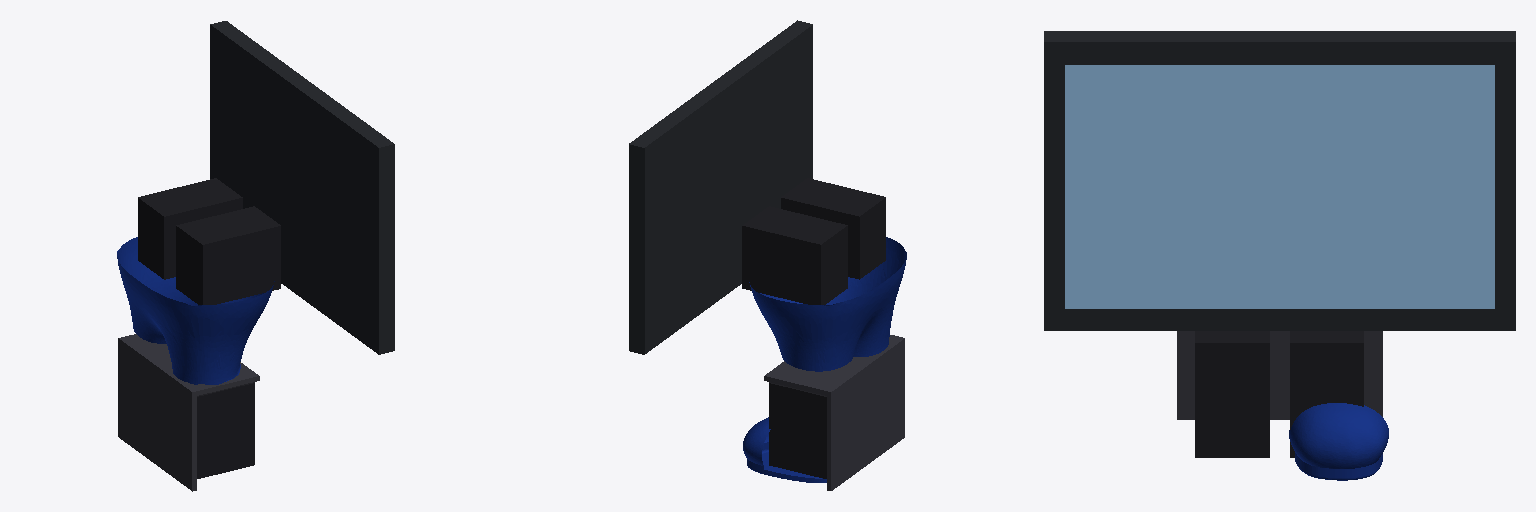
robot.urdf — haetburi:
<?xml version="1.0"?>
<!-- Haetburi biped (v14_xc330) - generated by tools/build_model.py, do not edit by hand -->
<robot name="haetburi">
  <mujoco>
    <compiler meshdir="." balanceinertia="true" discardvisual="false" strippath="false" fusestatic="false"/>
  </mujoco>
  <material name="display"><color rgba="0.18 0.19 0.21 1"/></material>
  <material name="screen"><color rgba="0.62 0.80 0.95 1"/></material>
  <material name="shell"><color rgba="0.106 0.216 0.541 1"/></material>
  <material name="motor"><color rgba="0.15 0.15 0.17 1"/></material>
  <material name="foot"><color rgba="0.25 0.25 0.28 1"/></material>
  <link name="world"/>
  <joint name="floating_base" type="floating">
    <parent link="world"/><child link="pelvis"/>
    <origin xyz="0 0 0" rpy="0 0 0"/>
  </joint>
  <link name="pelvis">
    <inertial>
      <origin xyz="0.0110592 -1.79769e-05 0.0199137" rpy="0 0 0"/>
      <mass value="0.296168"/>
      <inertia ixx="4.74493e-05" ixy="-2.49263e-08" ixz="-2.28874e-06" iyy="4.28728e-05" iyz="7.01694e-08" izz="3.10815e-05"/>
    </inertial>
    <visual><origin xyz="0 0 0" rpy="0 0 0"/><geometry><mesh filename="meshes/pelvis.stl"/></geometry><material name="shell"/></visual>
    <visual><origin xyz="0.00880154 0.014294 0.039" rpy="0 0 0"/><geometry><box size="0.034 0.02 0.026"/></geometry><material name="motor"/></visual>
    <visual><origin xyz="0.00879846 -0.0144704 0.039" rpy="0 0 0"/><geometry><box size="0.034 0.02 0.026"/></geometry><material name="motor"/></visual>
    <collision><origin xyz="0.00435977 -8.54132e-05 0.01525" rpy="0 0 0"/><geometry><box size="0.0522715 0.0694135 0.0305"/></geometry></collision>
  </link>
  <link name="torso">
    <inertial>
      <origin xyz="0.0129476 6.00365e-05 0.0748794" rpy="0 0 0"/>
      <mass value="0.432258"/>
      <inertia ixx="0.00242443" ixy="-6.96654e-06" ixz="0.000445582" iyy="0.00243868" iyz="-6.73997e-06" izz="0.00131875"/>
    </inertial>
    <visual><origin xyz="0 0 0" rpy="0 0 0"/><geometry><mesh filename="meshes/torso.stl"/></geometry><material name="shell"/></visual>
    <visual><origin xyz="0.0490515 0 0.0218935" rpy="0 0 0"/><geometry><box size="0.0069 0.1263 0.08538"/></geometry><material name="display"/></visual>
    <visual><origin xyz="0.0525015 0 0.0218935" rpy="0 0 0"/><geometry><box size="0.0004 0.1152 0.072"/></geometry><material name="screen"/></visual>
    <collision><origin xyz="-0.0227744 -1.06019e-06 0.016802" rpy="0 0 0"/><geometry><box size="0.1069 0.072486 0.0713833"/></geometry></collision>
    <collision><origin xyz="0.02781 0.056147 0.0338574" rpy="0 0 0"/><geometry><sphere radius="0.0406143"/></geometry></collision>
    <collision><origin xyz="0.0280023 -0.056233 0.0338574" rpy="0 0 0"/><geometry><sphere radius="0.0405753"/></geometry></collision>
    <collision><origin xyz="-0.00349062 0.000178514 0.0685432" rpy="0 0 0"/><geometry><sphere radius="0.0696616"/></geometry></collision>
    <collision><origin xyz="-0.00608253 -8.20715e-05 0.100621" rpy="0 0 0"/><geometry><sphere radius="0.0803688"/></geometry></collision>
    <collision><origin xyz="-0.00926197 -0.000135456 0.132704" rpy="0 0 0"/><geometry><sphere radius="0.0794379"/></geometry></collision>
    <collision><origin xyz="-0.00726599 0.000572212 0.164785" rpy="0 0 0"/><geometry><sphere radius="0.0690742"/></geometry></collision>
    <collision><origin xyz="-0.00429951 0.00452922 0.196886" rpy="0 0 0"/><geometry><sphere radius="0.049234"/></geometry></collision>
    <collision><origin xyz="-0.00787944 -0.00149701 0.228959" rpy="0 0 0"/><geometry><sphere radius="0.0285719"/></geometry></collision>
    <collision><origin xyz="0.0490515 0 0.0218935" rpy="0 0 0"/><geometry><box size="0.0069 0.1263 0.08538"/></geometry></collision>
  </link>
  <link name="leg_l">
    <inertial>
      <origin xyz="-0.000183689 4.19799e-05 -0.0197808" rpy="0 0 0"/>
      <mass value="0.0222596"/>
      <inertia ixx="4.98691e-06" ixy="-1.43825e-09" ixz="5.76307e-08" iyy="3.01277e-06" iyz="-1.15669e-08" izz="3.60291e-06"/>
    </inertial>
    <visual><origin xyz="0 0 0" rpy="0 0 0"/><geometry><mesh filename="meshes/leg_l.stl"/></geometry><material name="shell"/></visual>
    <visual><origin xyz="-0.0135118 -0.00170548 -0.0264625" rpy="0 0 0"/><geometry><box size="0.002 0.03 0.040925"/></geometry><material name="foot"/></visual>
    <visual><origin xyz="-1.18124e-05 -0.00170548 -0.007" rpy="0 0 0"/><geometry><box size="0.029 0.03 0.002"/></geometry><material name="foot"/></visual>
    <collision><origin xyz="-3.30698e-07 -4.55896e-06 -0.003" rpy="0 0 0"/><geometry><box size="0.0272667 0.0249809 0.006"/></geometry></collision>
  </link>
  <link name="foot_l">
    <inertial>
      <origin xyz="0.00200505 0.000486747 0.00672029" rpy="0 0 0"/>
      <mass value="0.0271972"/>
      <inertia ixx="4.03997e-06" ixy="-1.6238e-07" ixz="5.19014e-07" iyy="5.3119e-06" iyz="1.45637e-07" izz="3.33687e-06"/>
    </inertial>
    <visual><origin xyz="0 0 0" rpy="0 0 0"/><geometry><mesh filename="meshes/foot_l.stl"/></geometry><material name="shell"/></visual>
    <visual><origin xyz="1.11022e-18 0 0.0088" rpy="0 0 0"/><geometry><box size="0.026 0.02 0.034"/></geometry><material name="motor"/></visual>
    <collision><origin xyz="0 0 0" rpy="0 0 0"/><geometry><mesh filename="meshes/foot_l.stl"/></geometry></collision>
    <collision><origin xyz="1.11022e-18 0 0.0088" rpy="0 0 0"/><geometry><box size="0.026 0.02 0.034"/></geometry></collision>
  </link>
  <link name="leg_r">
    <inertial>
      <origin xyz="-5.37007e-05 2.14974e-05 -0.0195175" rpy="0 0 0"/>
      <mass value="0.0226916"/>
      <inertia ixx="5.08982e-06" ixy="-1.50983e-08" ixz="1.77234e-08" iyy="3.09749e-06" iyz="-8.06458e-09" izz="3.62823e-06"/>
    </inertial>
    <visual><origin xyz="0 0 0" rpy="0 0 0"/><geometry><mesh filename="meshes/leg_r.stl"/></geometry><material name="shell"/></visual>
    <visual><origin xyz="-0.0135087 0.00174446 -0.0264625" rpy="0 0 0"/><geometry><box size="0.002 0.03 0.040925"/></geometry><material name="foot"/></visual>
    <visual><origin xyz="-8.73321e-06 0.00174446 -0.007" rpy="0 0 0"/><geometry><box size="0.029 0.03 0.002"/></geometry><material name="foot"/></visual>
    <collision><origin xyz="7.89744e-07 7.22738e-06 -0.003" rpy="0 0 0"/><geometry><box size="0.0272447 0.025029 0.006"/></geometry></collision>
  </link>
  <link name="foot_r">
    <inertial>
      <origin xyz="0.00199116 -0.000494392 0.00672284" rpy="0 0 0"/>
      <mass value="0.0271825"/>
      <inertia ixx="4.04041e-06" ixy="1.64195e-07" ixz="5.1667e-07" iyy="5.30128e-06" iyz="-1.48613e-07" izz="3.32788e-06"/>
    </inertial>
    <visual><origin xyz="0 0 0" rpy="0 0 0"/><geometry><mesh filename="meshes/foot_r.stl"/></geometry><material name="shell"/></visual>
    <visual><origin xyz="1.11022e-18 0 0.0088" rpy="0 0 0"/><geometry><box size="0.026 0.02 0.034"/></geometry><material name="motor"/></visual>
    <collision><origin xyz="0 0 0" rpy="0 0 0"/><geometry><mesh filename="meshes/foot_r.stl"/></geometry></collision>
    <collision><origin xyz="1.11022e-18 0 0.0088" rpy="0 0 0"/><geometry><box size="0.026 0.02 0.034"/></geometry></collision>
  </link>
  <joint name="waist_fixed" type="fixed">
    <parent link="pelvis"/><child link="torso"/>
    <origin xyz="0 0 0.0305" rpy="0 0 0"/>
  </joint>
  <joint name="hip_yaw_l" type="revolute">
    <parent link="pelvis"/><child link="leg_l"/>
    <origin xyz="1.53959e-06 0.014294 0" rpy="0 0 0"/>
    <axis xyz="0 0 1"/>
    <limit lower="-0.523599" upper="0.523599" effort="1.0" velocity="7.43"/>
    <dynamics damping="0.07142857142857144" friction="0.028571428571428574"/>
  </joint>
  <joint name="hip_yaw_r" type="revolute">
    <parent link="pelvis"/><child link="leg_r"/>
    <origin xyz="-1.53959e-06 -0.0144704 0" rpy="0 0 0"/>
    <axis xyz="0 0 1"/>
    <limit lower="-0.523599" upper="0.523599" effort="1.0" velocity="7.43"/>
    <dynamics damping="0.07142857142857144" friction="0.028571428571428574"/>
  </joint>
  <joint name="ankle_roll_l" type="revolute">
    <parent link="leg_l"/><child link="foot_l"/>
    <origin xyz="0.00248819 -0.00170548 -0.036925" rpy="0 0 0"/>
    <axis xyz="1 0 0"/>
    <limit lower="-0.261799" upper="0.261799" effort="1.0" velocity="7.43"/>
    <dynamics damping="0.07142857142857144" friction="0.028571428571428574"/>
  </joint>
  <joint name="ankle_roll_r" type="revolute">
    <parent link="leg_r"/><child link="foot_r"/>
    <origin xyz="0.00249127 0.00174446 -0.036925" rpy="0 0 0"/>
    <axis xyz="1 0 0"/>
    <limit lower="-0.261799" upper="0.261799" effort="1.0" velocity="7.43"/>
    <dynamics damping="0.07142857142857144" friction="0.028571428571428574"/>
  </joint>
</robot>

--- Facts derived from the render (not from the file) ---
The picture shows the robot from 3 angles, left to right: view 1: azimuth 30°, elevation 25°; view 2: azimuth 150°, elevation 25°; view 3: azimuth 270°, elevation 25°; orthographic projection.
Robot: haetburi — 7 links, 6 joints (4 revolute, 1 fixed, 1 floating); root link world; default pose: every joint at zero.
Visible links, largest first — view 1: torso, pelvis, leg_r, leg_l, foot_r; view 2: torso, pelvis, foot_l, leg_l, leg_r; view 3: torso, foot_l, foot_r, leg_r, leg_l.
Boxes of the visible links, <box> form: torso: <box>210,21,394,354</box>; pelvis: <box>117,178,280,371</box>; leg_r: <box>152,358,259,491</box>; leg_l: <box>118,334,171,466</box>; foot_r: <box>197,382,254,478</box>; torso: <box>629,20,812,354</box>; pelvis: <box>742,178,906,371</box>; foot_l: <box>743,382,826,482</box>; leg_l: <box>764,361,870,490</box>; leg_r: <box>849,331,904,461</box>; torso: <box>1044,31,1515,330</box>; foot_l: <box>1289,331,1388,480</box>; foot_r: <box>1195,331,1269,457</box>; leg_r: <box>1177,331,1287,419</box>; leg_l: <box>1288,331,1382,419</box>.
Size in the robot's own frame: 0.0745 by 0.1263 by 0.1422 metres.
3 mesh visuals loaded from 6 distinct referenced files (3 binary STL); not drawn: 3 (reference not matched to a file when rendering).
